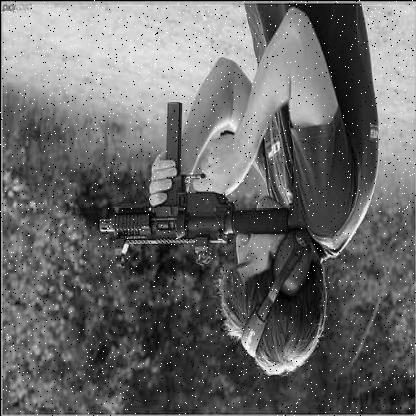rifle: (91, 103, 325, 299)
